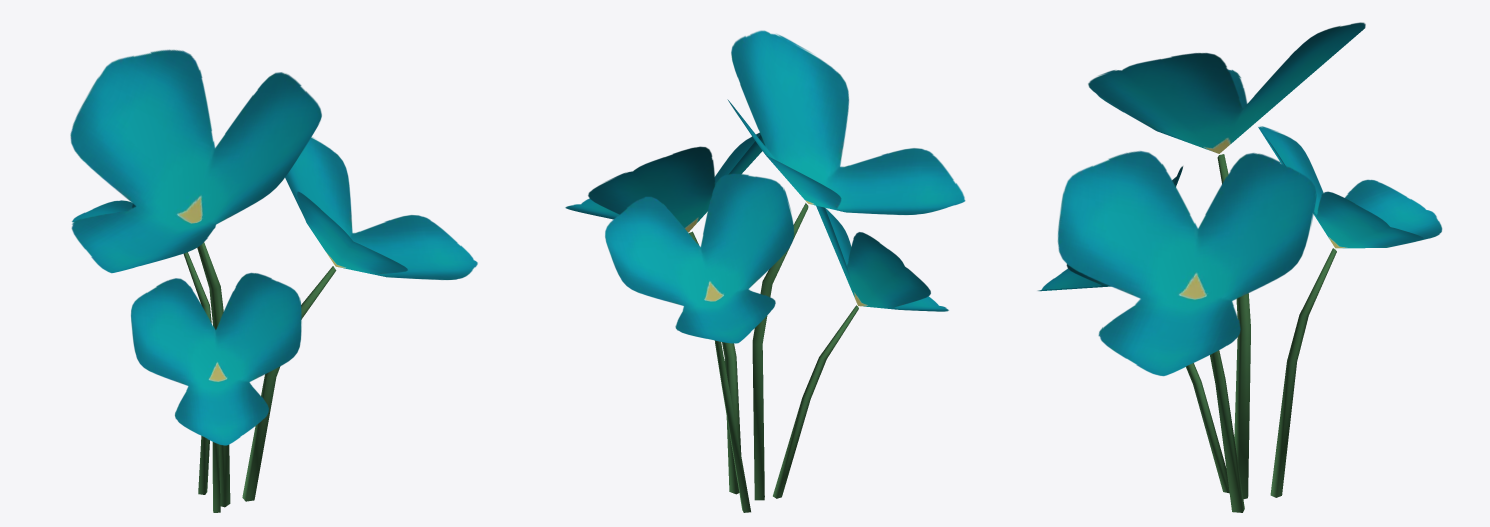
Rendered from Flower_3_Clump.glb.
The picture shows the model from 3 angles, left to right: view 1: azimuth 30°, elevation 25°; view 2: azimuth 150°, elevation 25°; view 3: azimuth 270°, elevation 25°; orthographic projection. The views are drawn at different scales.
Parts seen in each view (by area): view 1: Flower_3_Clump; view 2: Flower_3_Clump; view 3: Flower_3_Clump.
Part boxes in pixels (x1=…): Flower_3_Clump: x1=70, y1=49, x2=477, y2=512; Flower_3_Clump: x1=565, y1=30, x2=965, y2=512; Flower_3_Clump: x1=1037, y1=22, x2=1442, y2=512.
Size of the model in its own units: 0.426 by 0.4508 by 0.3735.
Materials: 1 (1 with a texture image).
